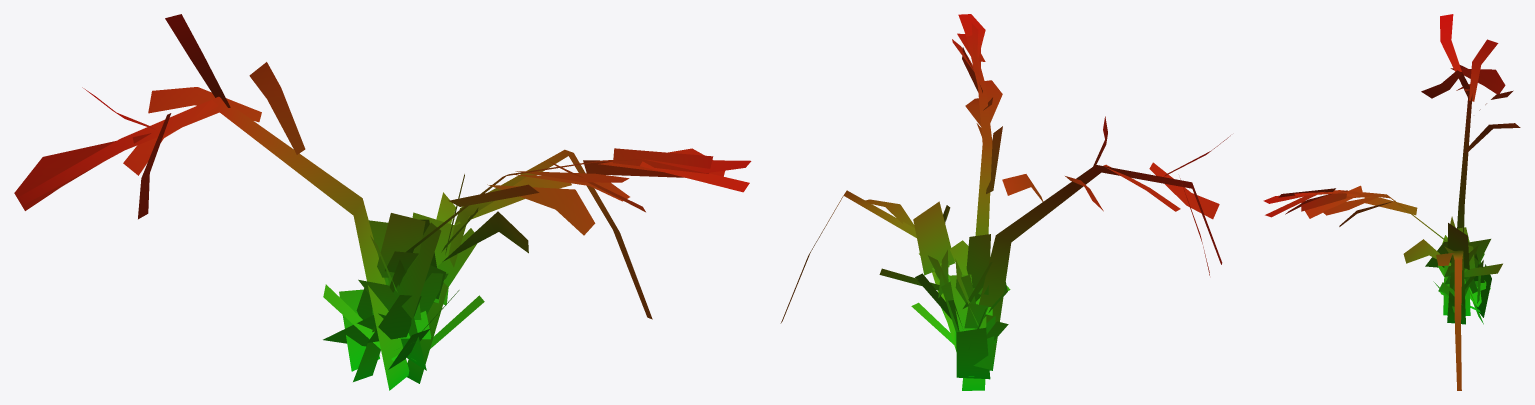
The model's file is Var7_LOD2.fbx.
3 views of the same model, side by side, from view 1: azimuth 30°, elevation 25°; view 2: azimuth 150°, elevation 25°; view 3: azimuth 270°, elevation 25° (orthographic). The views are drawn at different scales.
Visible parts, largest first — view 1: _df4a_Var7_LOD2; view 2: _df4a_Var7_LOD2; view 3: _df4a_Var7_LOD2.
Boxes of the visible parts, <box> form: _df4a_Var7_LOD2: <box>14,14,751,390</box>; _df4a_Var7_LOD2: <box>780,14,1230,390</box>; _df4a_Var7_LOD2: <box>1263,14,1520,390</box>.
Size of the model in its own units: 65.48 by 42.12 by 42.23.
